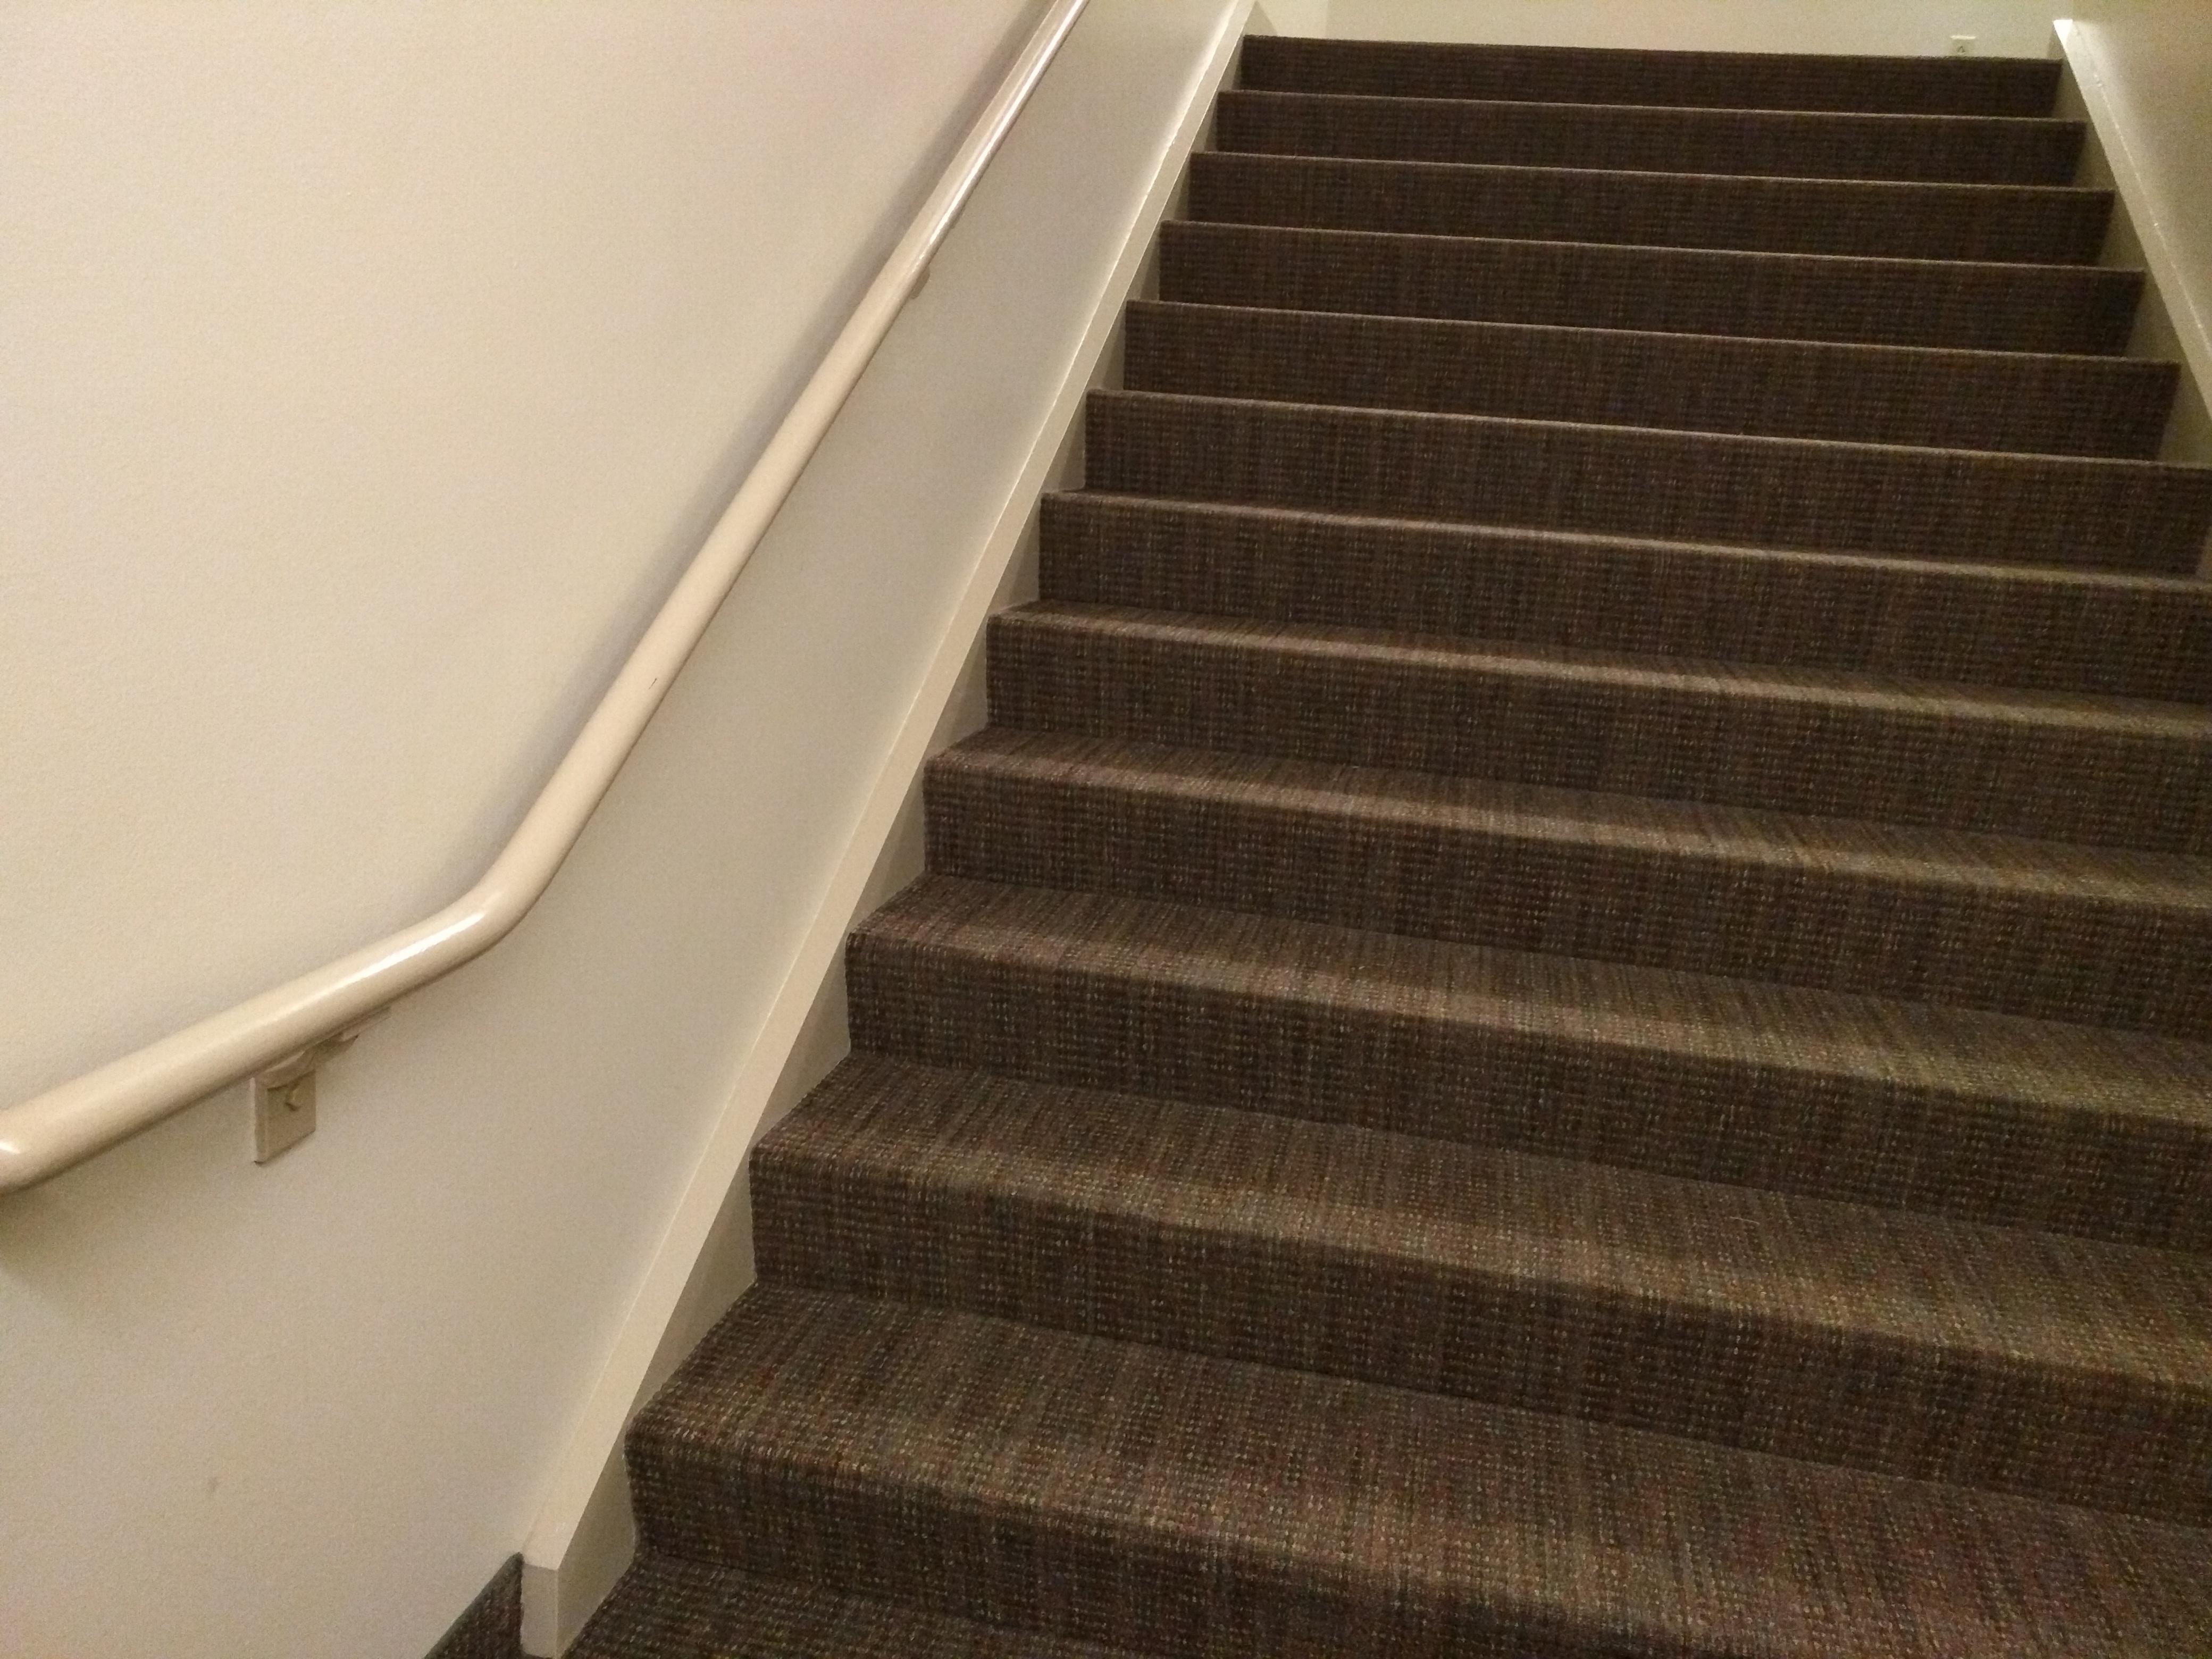stairs_up: (601, 23, 2212, 1659)
